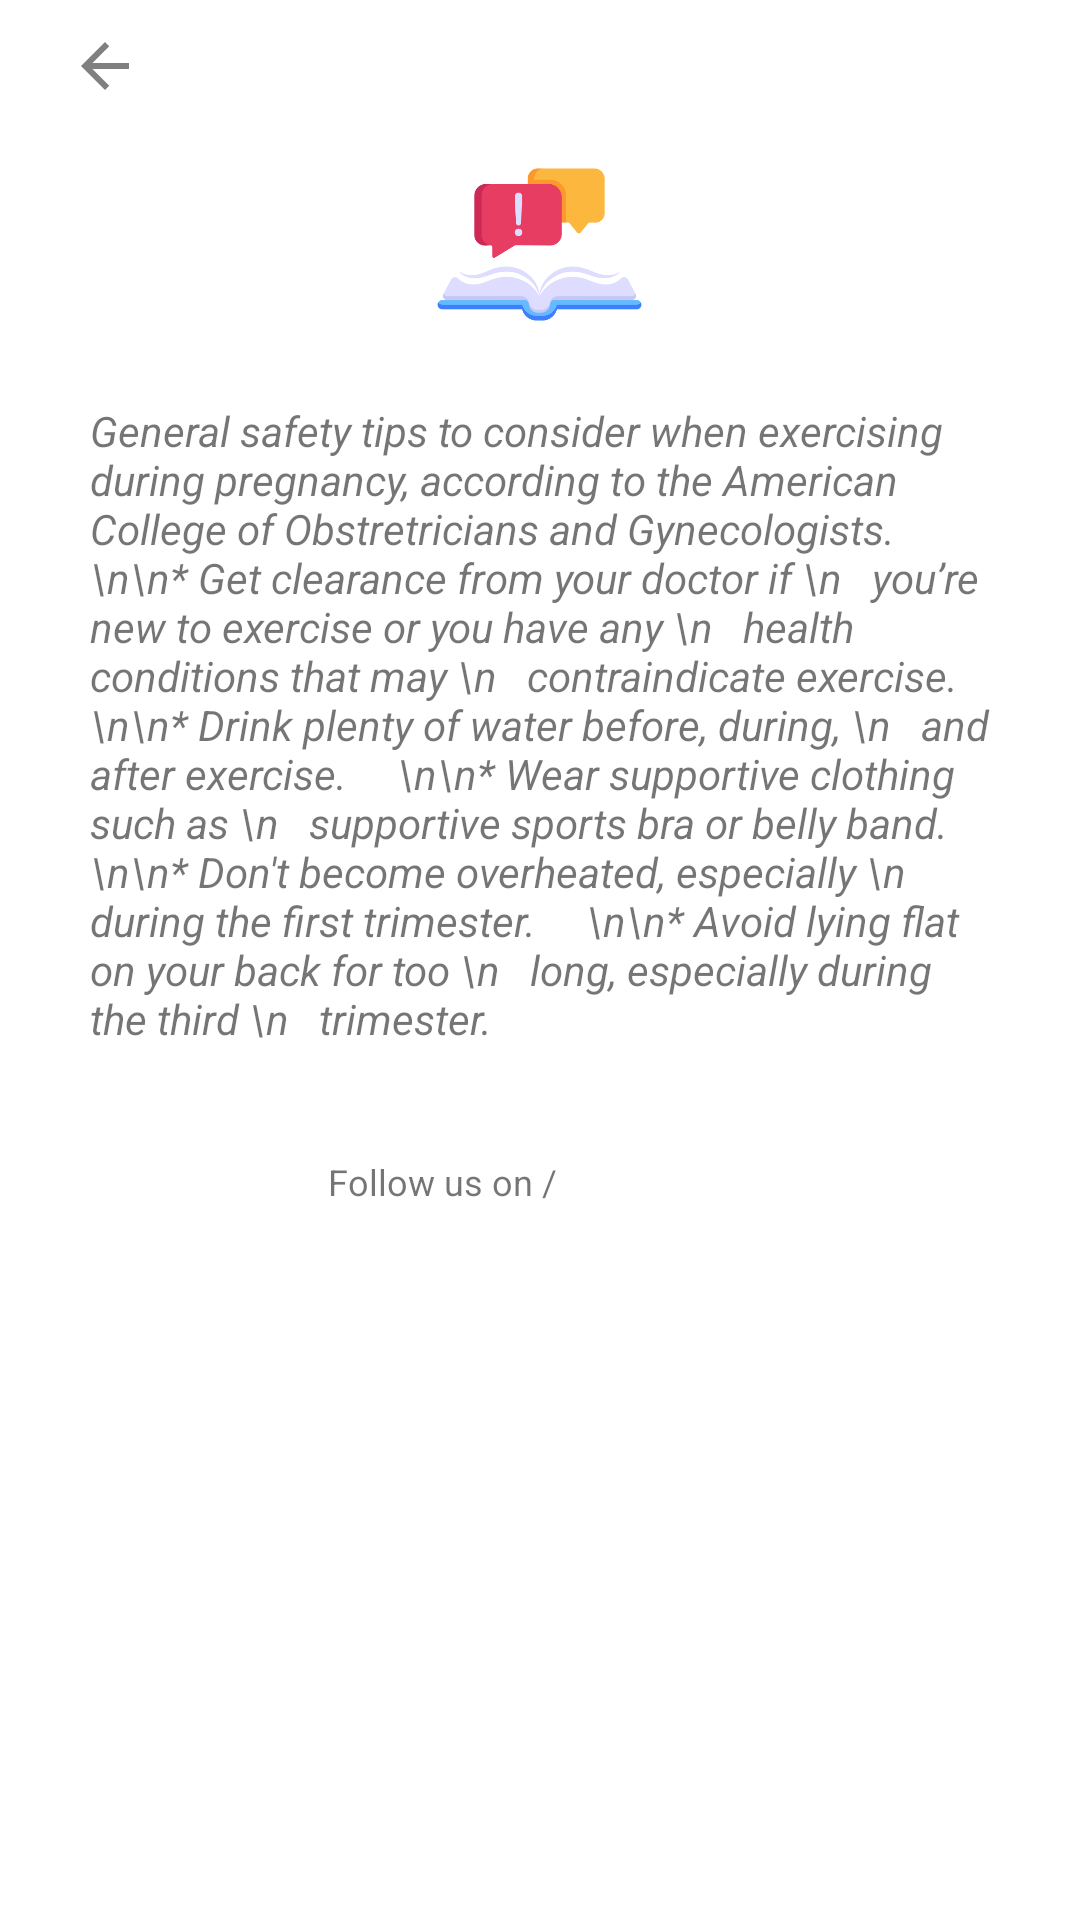

Icon bounding boxes for this 1080px×1920px phone screenshot, format (x1,y1,x2,y2):
arrow back: (81,42,129,90)
instructions: (437,168,642,321)
